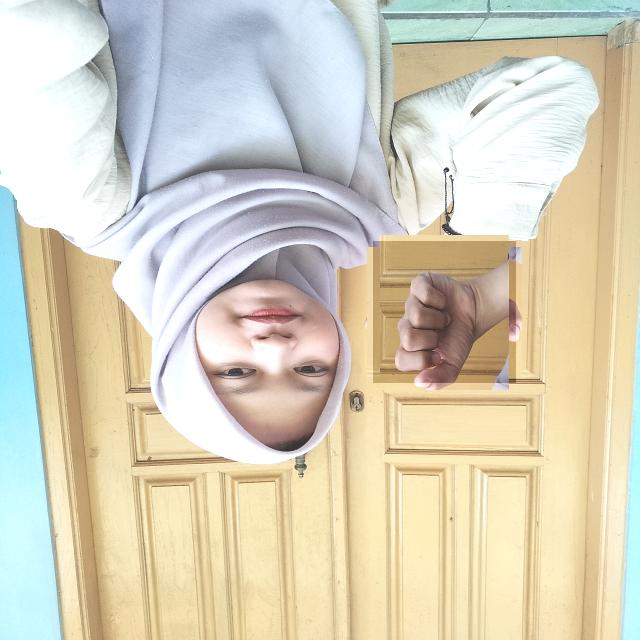baik: (373, 241, 516, 383)
